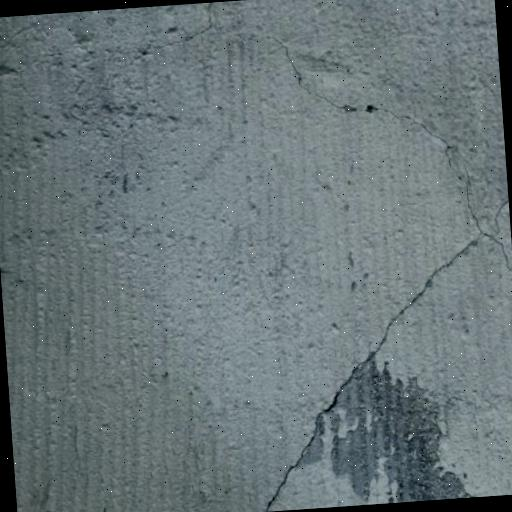spalling: (260, 233, 481, 510)
